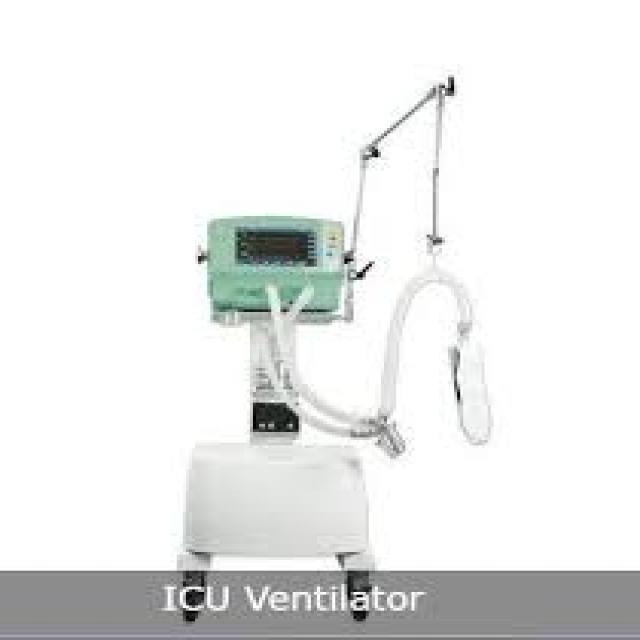ventilator: (154, 41, 502, 558)
